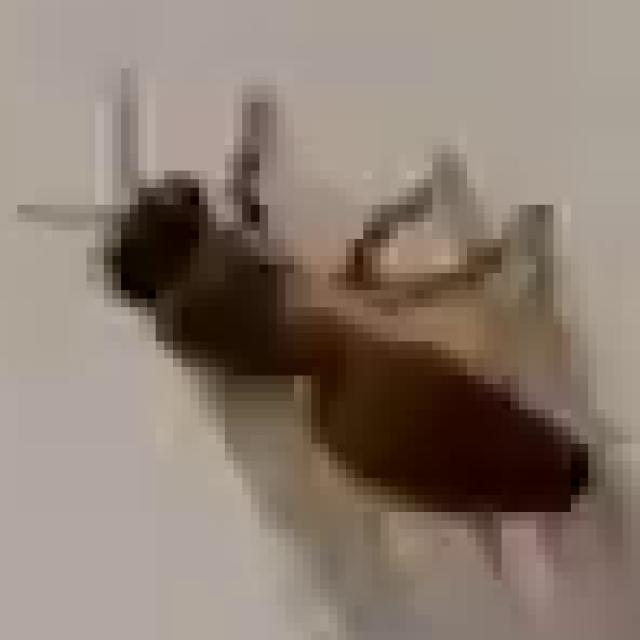honeybee: (106, 129, 588, 616)
